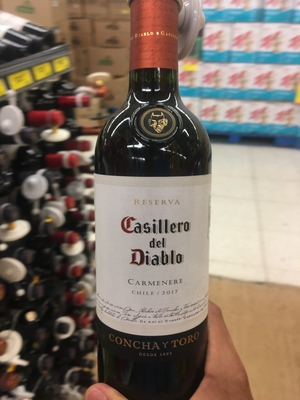casillero del diablo carmenere: (75, 23, 222, 387)
